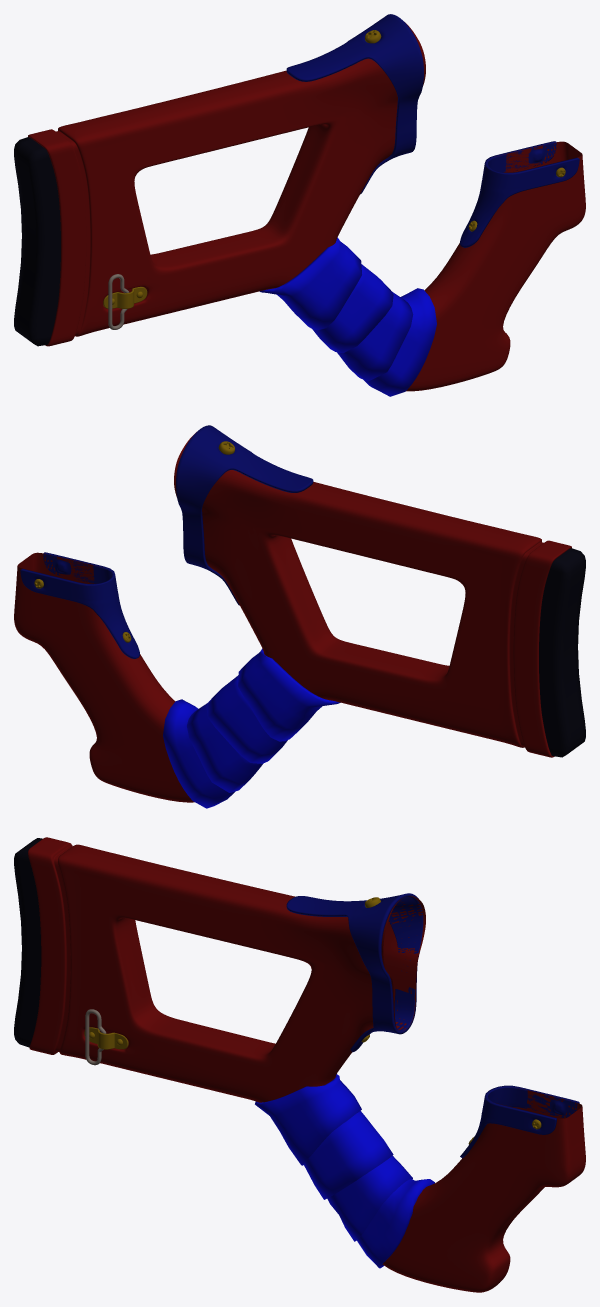
Rendered from grip_02.fbx.
3 renders of one model, top to bottom at view 1: azimuth 30°, elevation 25°; view 2: azimuth 150°, elevation 25°; view 3: azimuth 330°, elevation 25°, orthographic.
Parts seen in each view (by area): view 1: Plane.039; view 2: Plane.039; view 3: Plane.039.
Boxes of the visible parts, x1=… form: Plane.039: x1=14, y1=14, x2=585, y2=396; Plane.039: x1=14, y1=425, x2=585, y2=808; Plane.039: x1=14, y1=837, x2=585, y2=1292.
Size of the model in its own units: 109 by 70.6 by 15.26.
